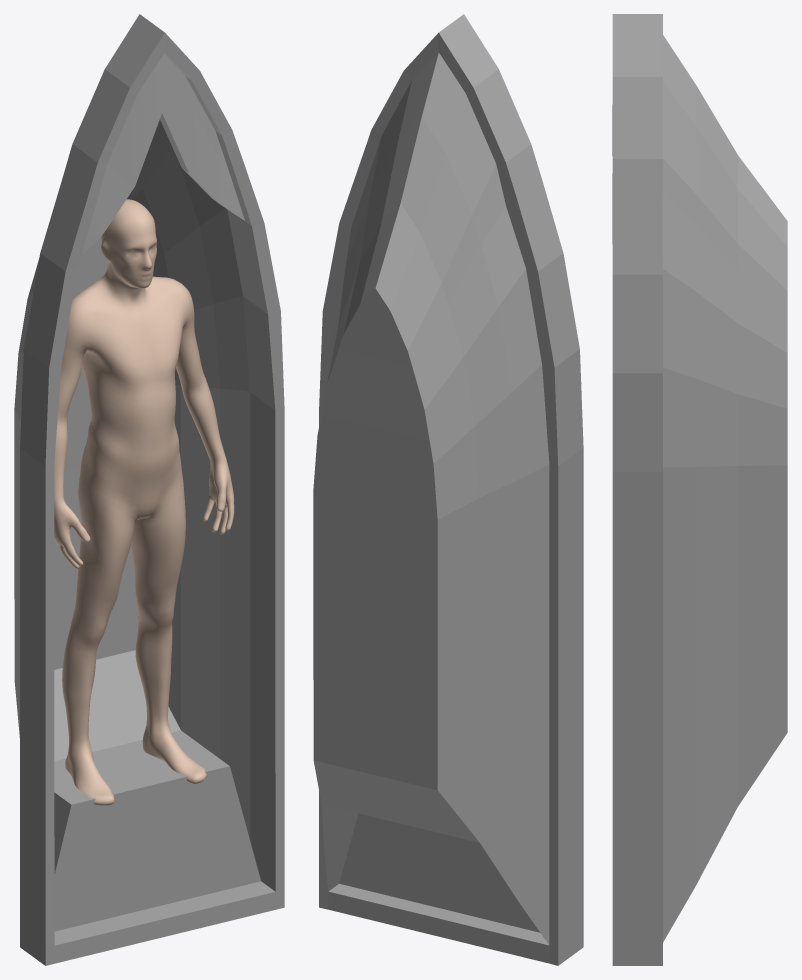
Rendered from SM_statue_01.fbx.
3 renders of one model, left to right at view 1: azimuth 30°, elevation 25°; view 2: azimuth 150°, elevation 25°; view 3: azimuth 270°, elevation 25°, orthographic.
Parts seen in each view (by area): view 1: polySurface3017; view 2: polySurface3017; view 3: polySurface3017.
Part boxes in pixels (x1,y1,x2,y2): polySurface3017: [14, 14, 284, 965]; polySurface3017: [313, 14, 583, 965]; polySurface3017: [612, 14, 787, 965].
Bounding box in the file's own units: 2.55 × 9.23 × 1.64.
